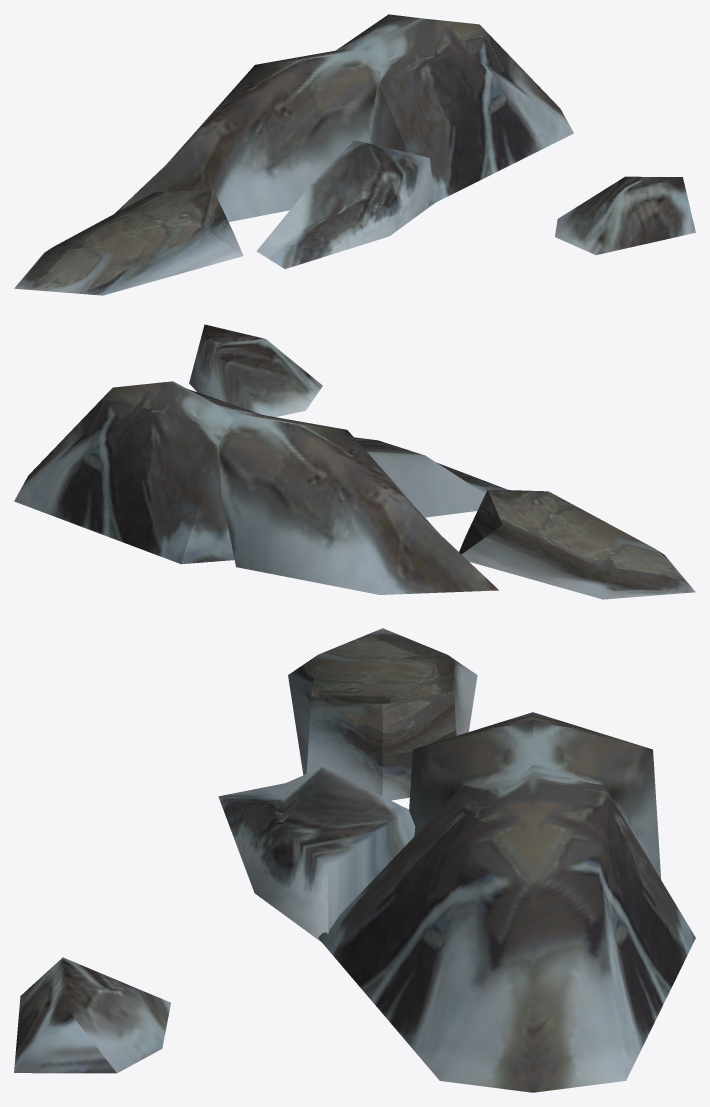
Rendered from yw_tianshan_shidui01.FBX.
3 views of the same model, one above another, from view 1: azimuth 30°, elevation 25°; view 2: azimuth 150°, elevation 25°; view 3: azimuth 270°, elevation 25° (orthographic). The views are drawn at different scales.
Visible parts, largest first — view 1: yw_tianshan_shidui01; view 2: yw_tianshan_shidui01; view 3: yw_tianshan_shidui01.
Part boxes in pixels (left/top/right/bottom): yw_tianshan_shidui01: left=14, top=14, right=695, bottom=295; yw_tianshan_shidui01: left=14, top=324, right=695, bottom=599; yw_tianshan_shidui01: left=14, top=628, right=695, bottom=1092.
Bounding box in the file's own units: 692 × 140 × 427.
